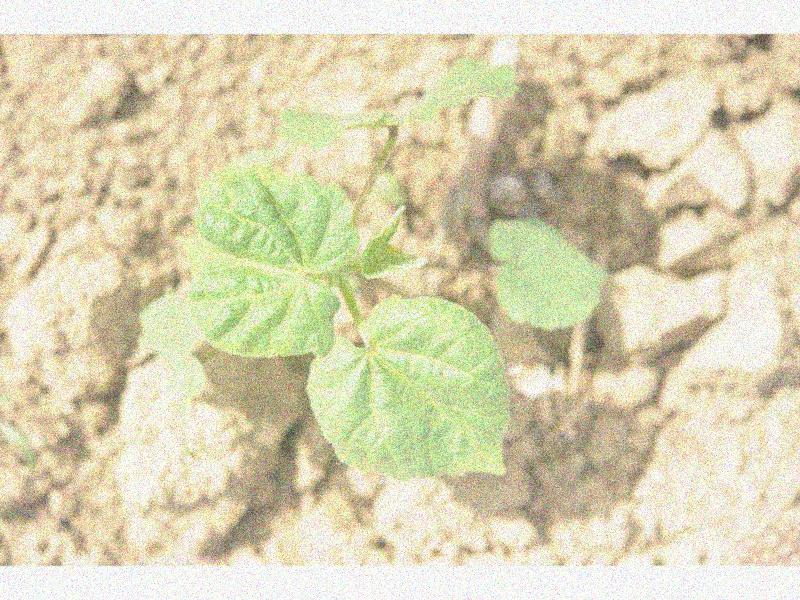velvet: (184, 58, 603, 483)
